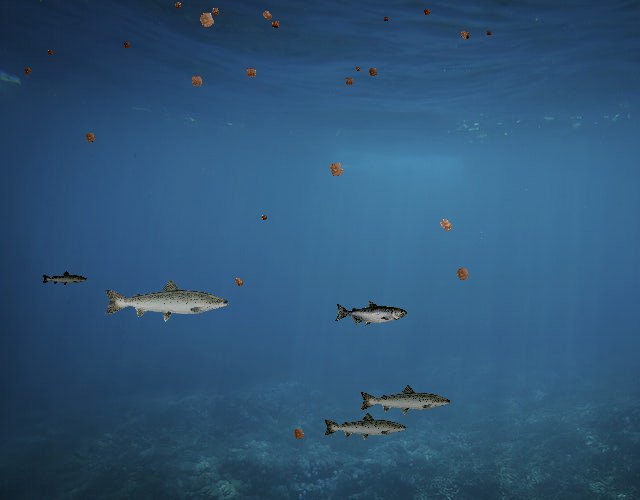Fish: (102, 277, 231, 323), (359, 383, 453, 417), (322, 411, 408, 442), (335, 300, 408, 326), (42, 271, 89, 288)
Pellet: (192, 5, 222, 34), (432, 212, 459, 239), (450, 261, 476, 287), (185, 70, 208, 93), (288, 423, 310, 445), (230, 273, 248, 291), (120, 38, 134, 52), (170, 0, 185, 13), (258, 212, 270, 224)
